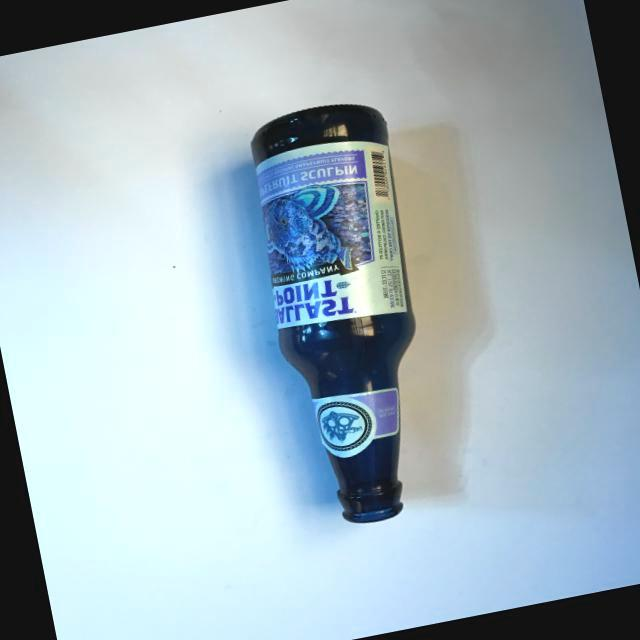glass: (228, 80, 472, 548)
